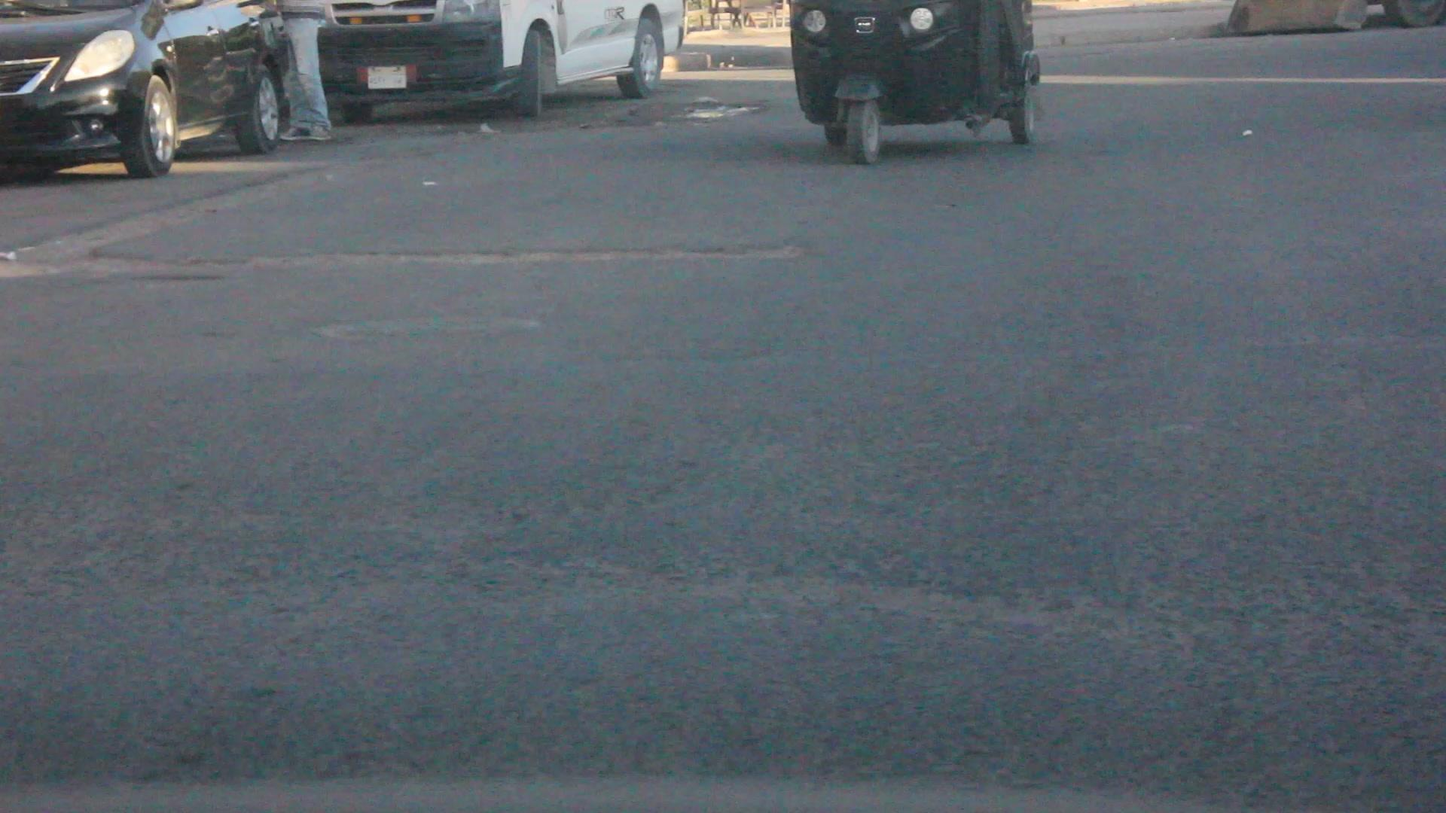Bump: (0, 576, 1446, 813)
Pothole: (0, 228, 817, 303), (655, 96, 776, 143)
